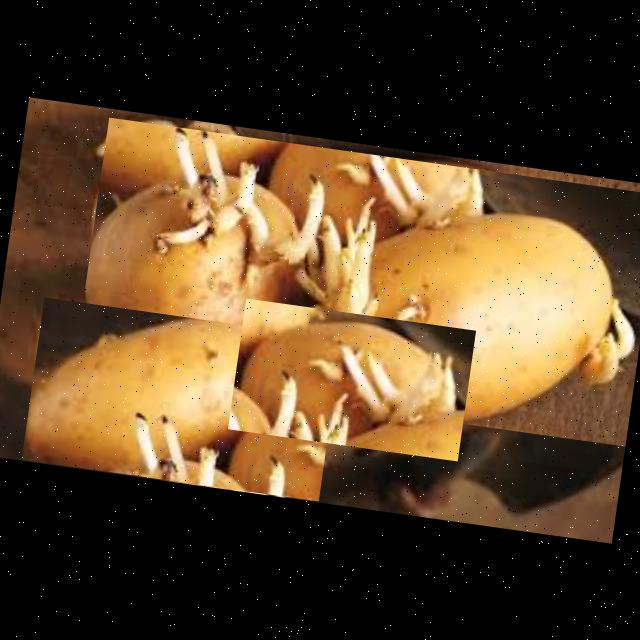Sprouted potato: (269, 144, 640, 446), (73, 116, 338, 397), (21, 296, 340, 500), (227, 298, 475, 460)
